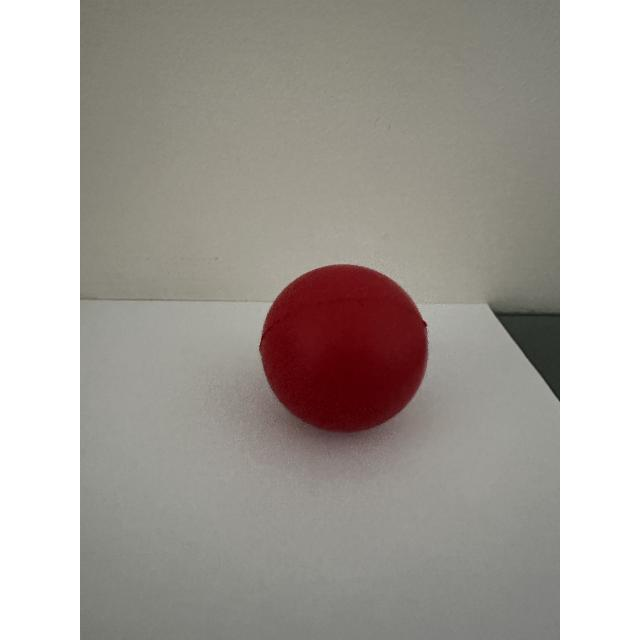red_ball: (256, 246, 464, 456)
